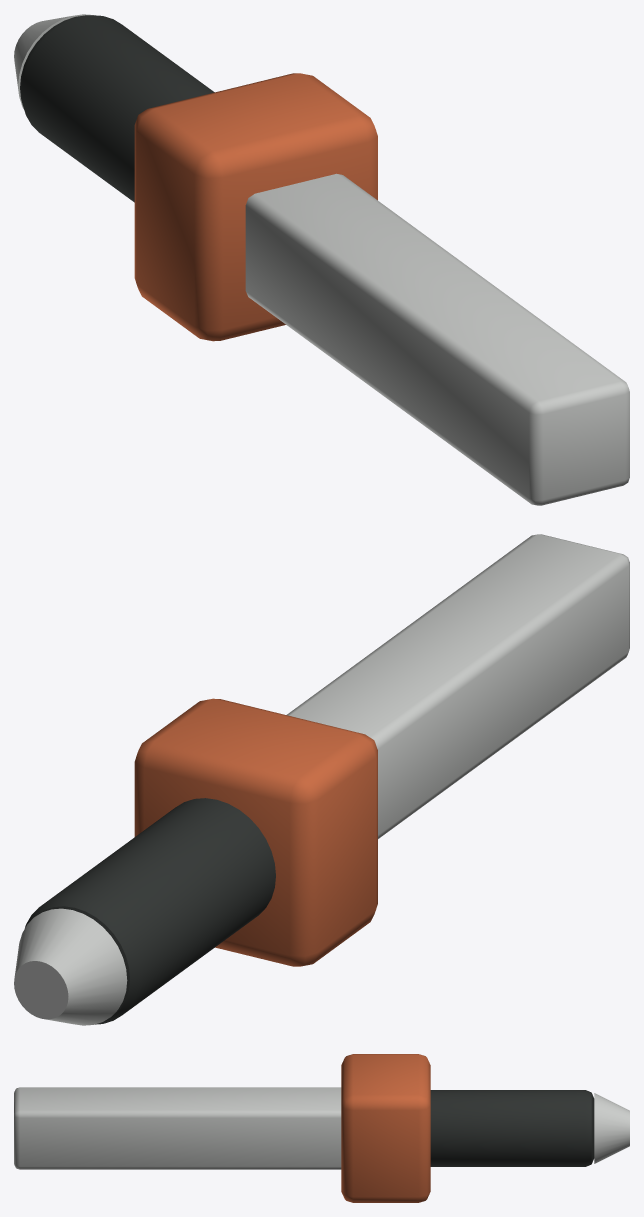
The model's file is welding_carriage_vertical_slide.glb.
The picture shows the model from 3 angles, top to bottom: view 1: azimuth 30°, elevation 25°; view 2: azimuth 150°, elevation 25°; view 3: azimuth 270°, elevation 25°; orthographic projection. The views are drawn at different scales.
Parts seen in each view (by area): view 1: welding_carriage_vertical_slide; view 2: welding_carriage_vertical_slide; view 3: welding_carriage_vertical_slide.
Boxes of the visible parts, bbox=[...] form: welding_carriage_vertical_slide: bbox=[14, 14, 629, 505]; welding_carriage_vertical_slide: bbox=[14, 534, 629, 1025]; welding_carriage_vertical_slide: bbox=[14, 1054, 629, 1202].
Bounding box in the file's own units: 0.04 × 0.04 × 0.207.
